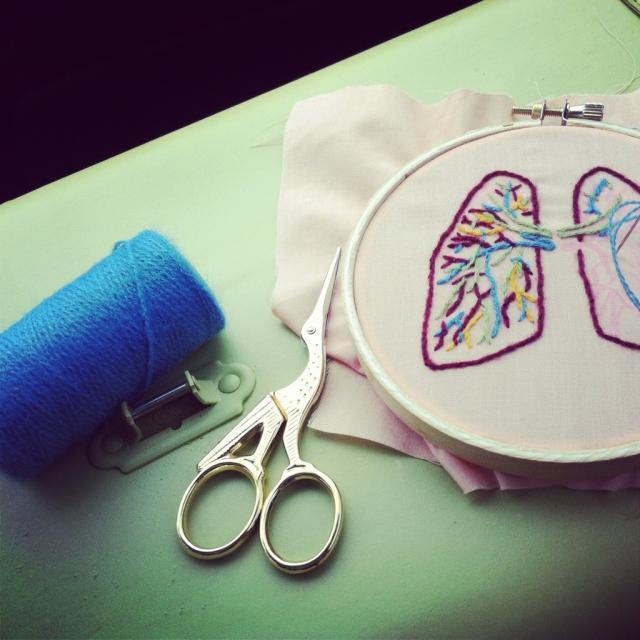scissors: (175, 246, 344, 574)
